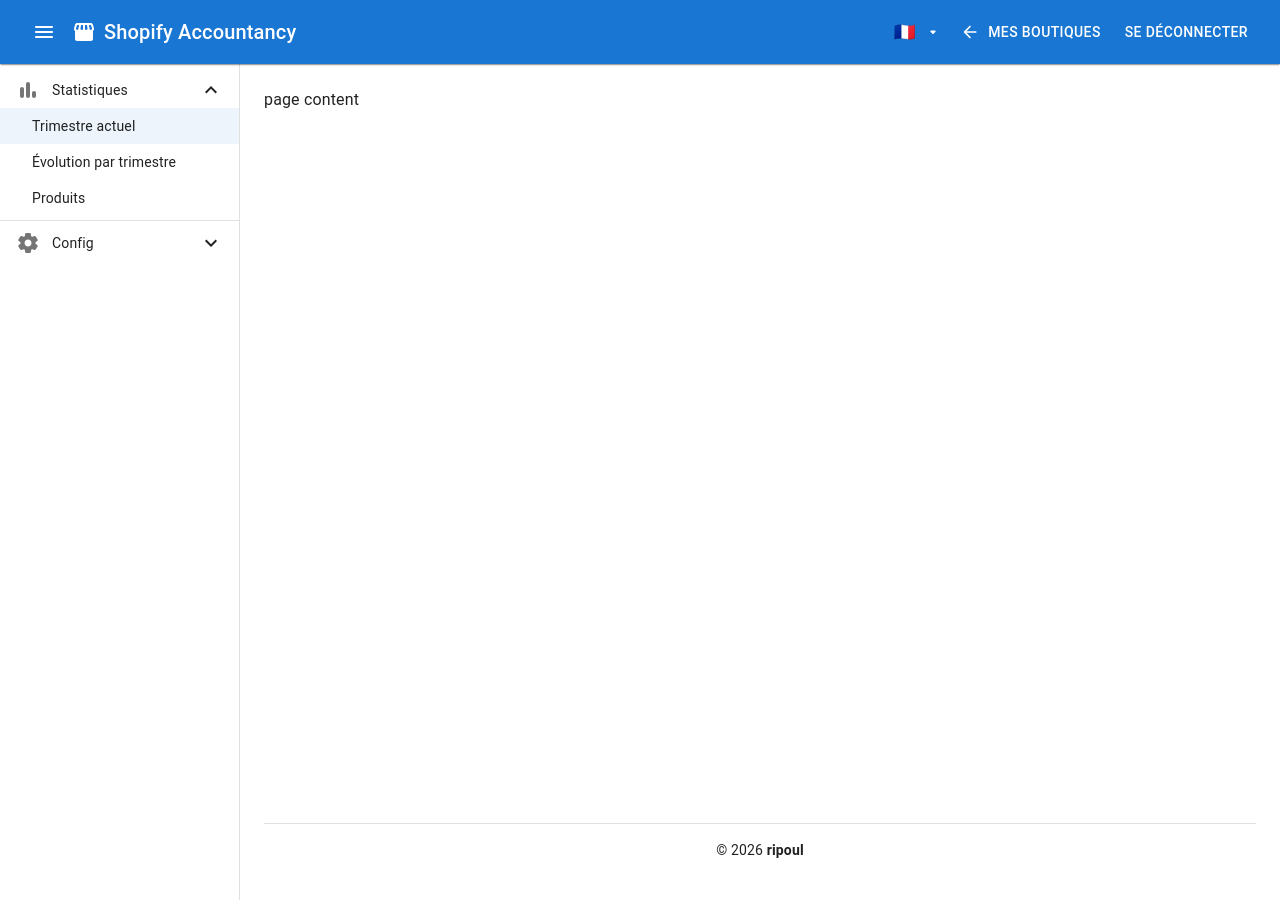
Scenario: StoreLayout › clicking Statistiques collapses its sub-items
Click the button "Statistiques": {"x": 120, "y": 90} [0,72,239,108]
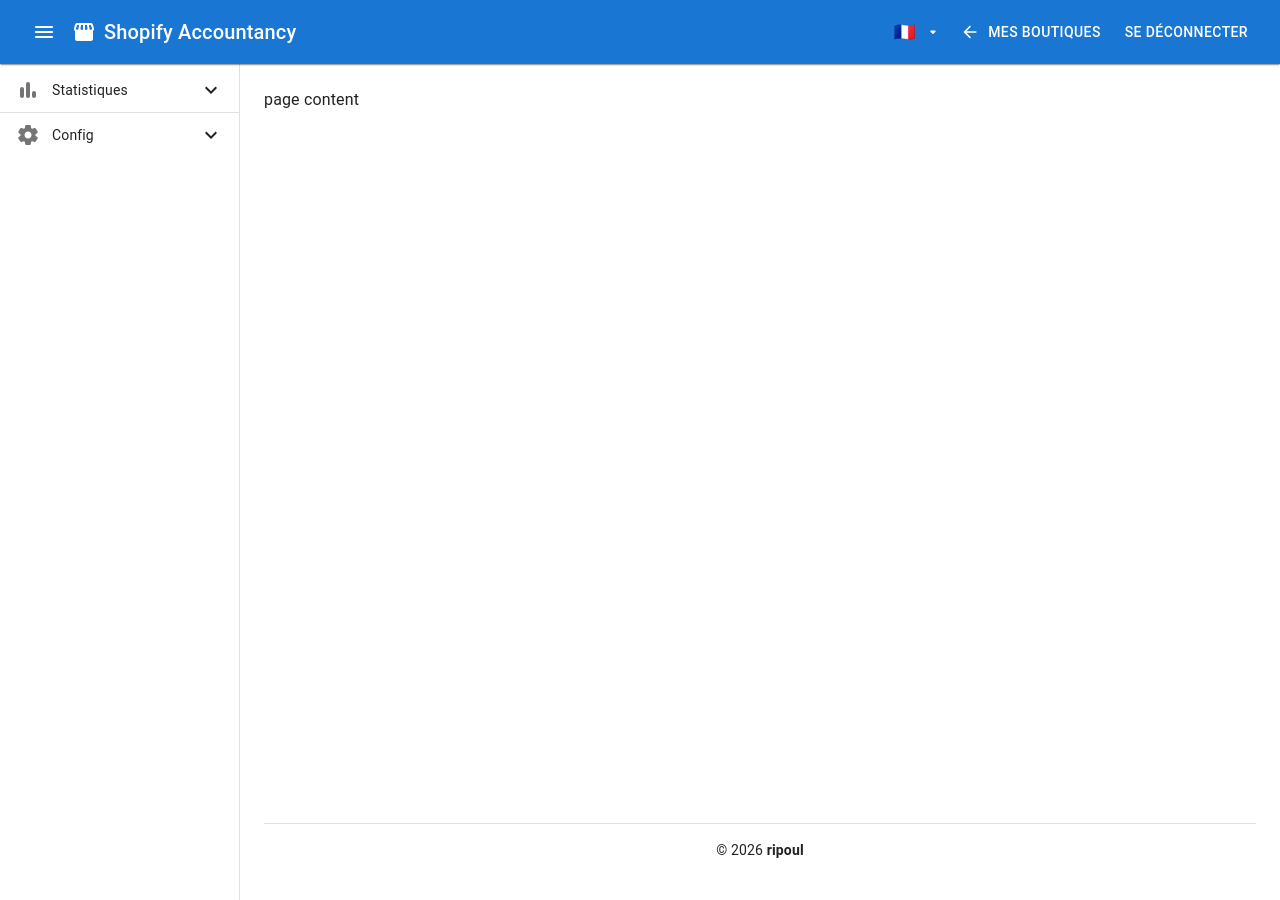
Now the link "Trimestre actuel" is gone
